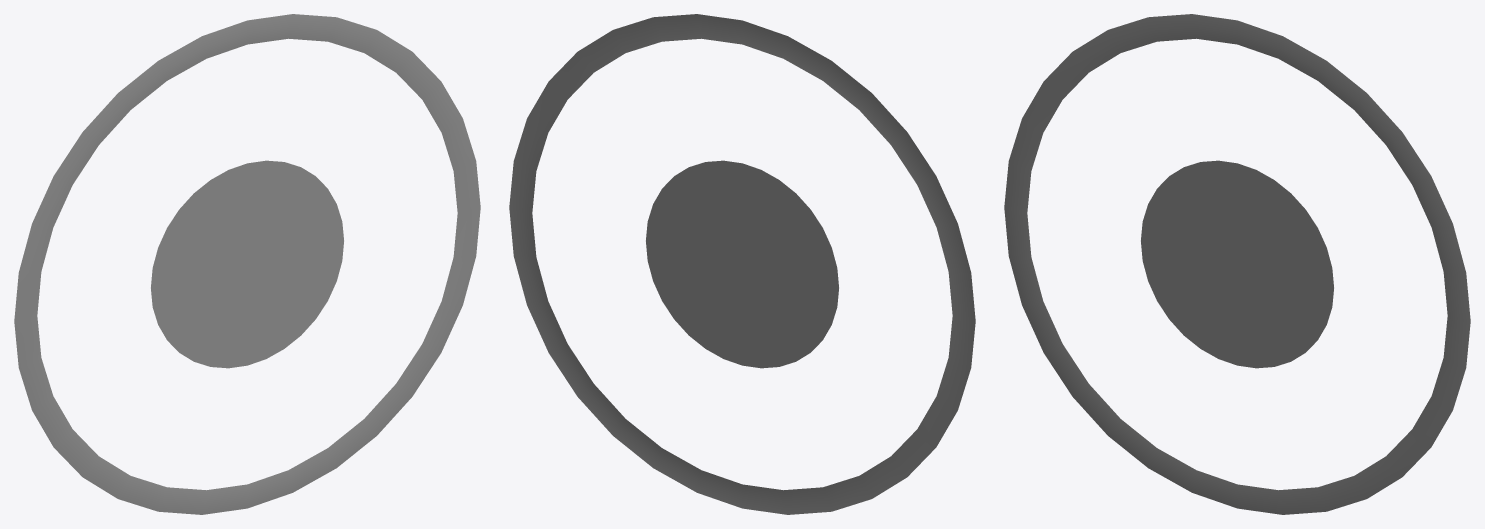
Rendered from MeshPan_6_0_GeomSubset_2.obj.
3 renders of one model, left to right at view 1: azimuth 30°, elevation 25°; view 2: azimuth 150°, elevation 25°; view 3: azimuth 330°, elevation 25°, orthographic.
Visible parts, largest first — view 1: MeshPan_6_0_GeomSubset_2; view 2: MeshPan_6_0_GeomSubset_2; view 3: MeshPan_6_0_GeomSubset_2.
Part boxes in pixels (x1,y1,x2,y2): MeshPan_6_0_GeomSubset_2: (14,14,480,514); MeshPan_6_0_GeomSubset_2: (509,14,975,514); MeshPan_6_0_GeomSubset_2: (1004,14,1470,514).
Size of the model in its own units: 0.1799 by 0.1799 by 0.00516.
